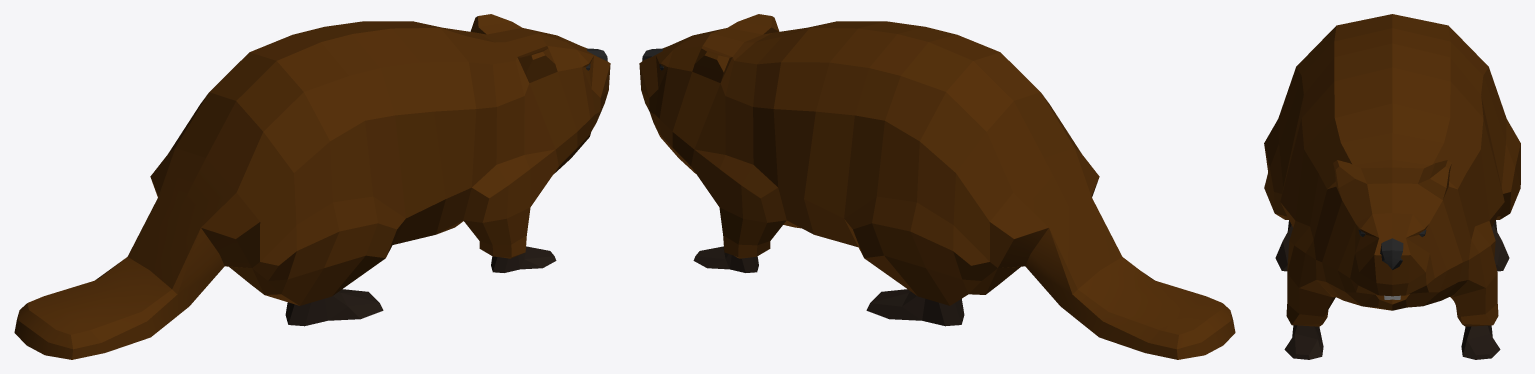
The model's file is Beaver01.fbx.
3 views of the same model, side by side, from view 1: azimuth 30°, elevation 25°; view 2: azimuth 150°, elevation 25°; view 3: azimuth 270°, elevation 25° (orthographic). The views are drawn at different scales.
Parts seen in each view (by area): view 1: Beaver; view 2: Beaver; view 3: Beaver.
Part boxes in pixels (<box>): Beaver: <box>14,14,610,359</box>; Beaver: <box>639,14,1235,359</box>; Beaver: <box>1264,14,1520,359</box>.
Bounding box in the file's own units: 36.69 × 14.06 × 13.67.
